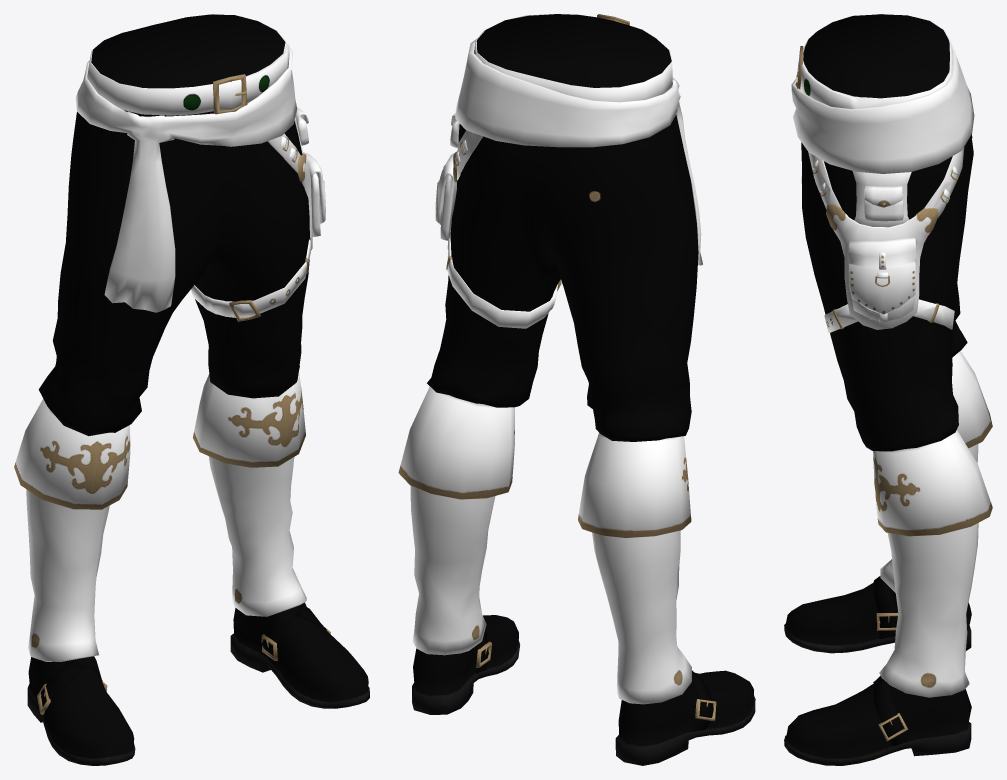
File: SurvivorMale_Legs_Pants_Pirate_LOD0.glb
The picture shows the model from 3 angles, left to right: view 1: azimuth 30°, elevation 25°; view 2: azimuth 150°, elevation 25°; view 3: azimuth 270°, elevation 25°; orthographic projection. The views are drawn at different scales.
Visible parts, largest first — view 1: Hoodie; view 2: Hoodie; view 3: Hoodie.
Part boxes in pixels (left/top/right/bottom): Hoodie: left=14, top=14, right=369, bottom=765; Hoodie: left=398, top=14, right=755, bottom=765; Hoodie: left=784, top=14, right=992, bottom=765.
Size of the model in its own units: 0.5375 by 1.13 by 0.3314.
Materials: 1 (1 with a texture image).
